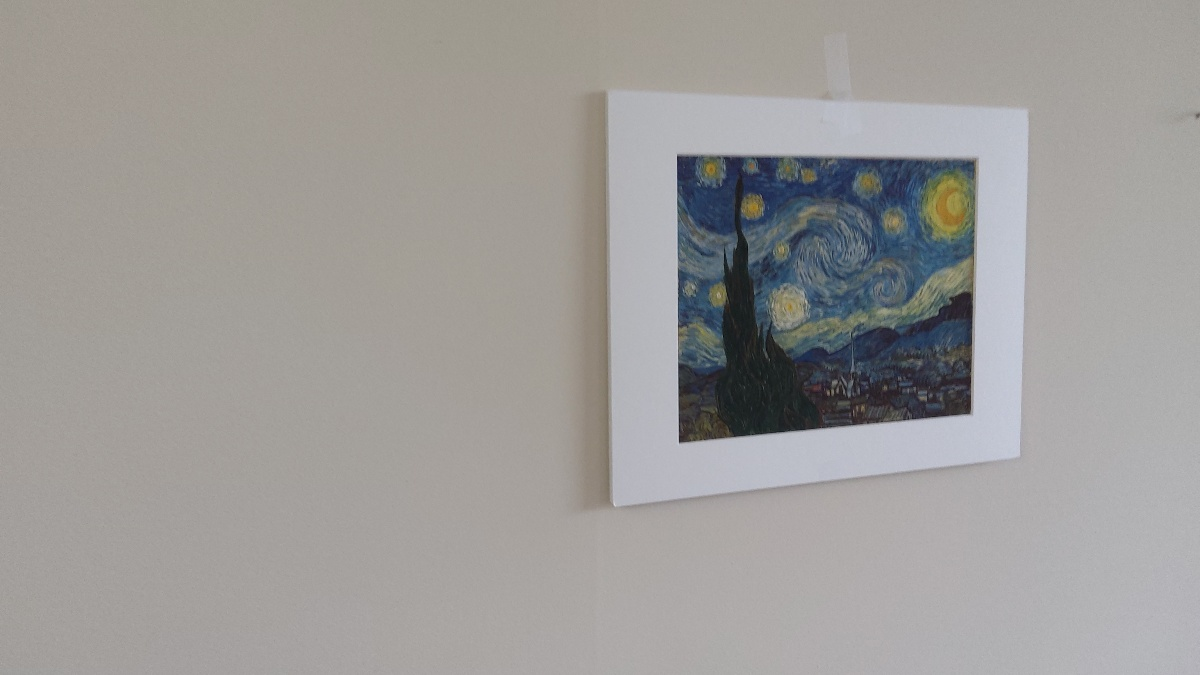painting: (665, 144, 981, 450)
